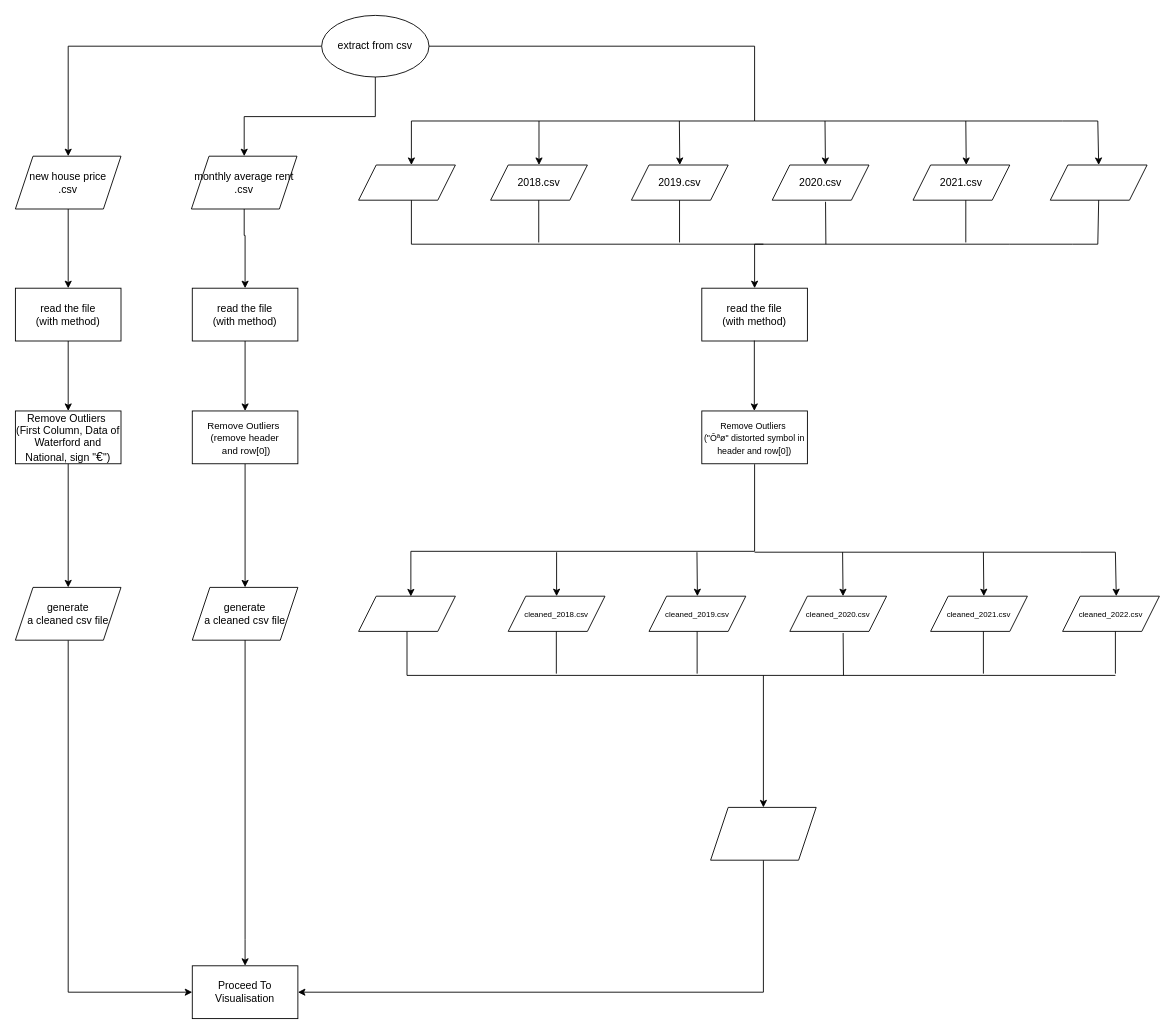
This 1175x1034 diagram has some shape labels left out. The centre of each missing label's shape, as x and y in pixels:
"2017.csv" goes at point 406,182.
"2022.csv" goes at point 1098,182.
"cleaned_2017.csv" goes at point 406,613.
"generate cleaned csv files" goes at point 763,833.
